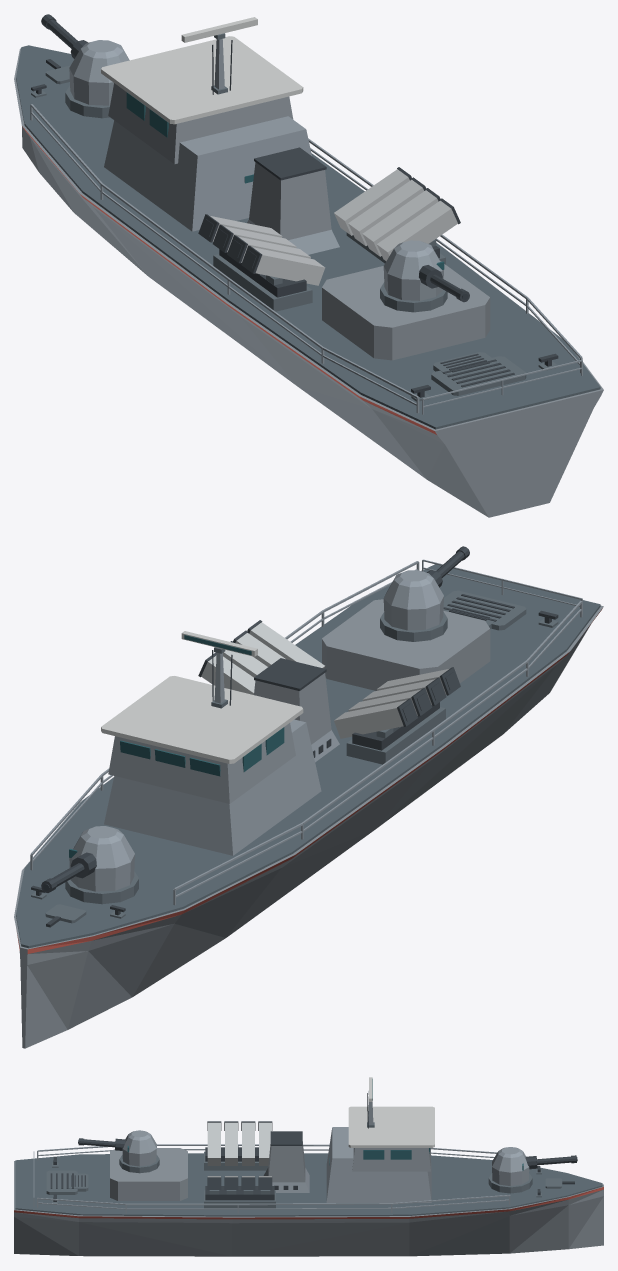
The model's file is PatrolBoat_CoastalBoss.fbx.
3 views of the same model, one above another, from view 1: azimuth 30°, elevation 25°; view 2: azimuth 150°, elevation 25°; view 3: azimuth 270°, elevation 25° (orthographic). The views are drawn at different scales.
Parts seen in each view (by area): view 1: PatrolBoat_CoastalBoss_Visual, AftGun_TurretPivot_Visual, BowGun_TurretPivot_Visual, AftGun_ElevationPivot_Visual, RadarPivot_Visual; view 2: PatrolBoat_CoastalBoss_Visual, BowGun_TurretPivot_Visual, AftGun_TurretPivot_Visual, BowGun_ElevationPivot_Visual, RadarPivot_Visual; view 3: PatrolBoat_CoastalBoss_Visual, BowGun_TurretPivot_Visual, AftGun_TurretPivot_Visual, BowGun_ElevationPivot_Visual, AftGun_ElevationPivot_Visual.
Boxes of the visible parts, x1,y1,x2,y2 form: PatrolBoat_CoastalBoss_Visual: (14,33,603,517); AftGun_TurretPivot_Visual: (383,240,444,300); BowGun_TurretPivot_Visual: (69,40,129,105); AftGun_ElevationPivot_Visual: (419,265,469,302); RadarPivot_Visual: (181,17,257,42); PatrolBoat_CoastalBoss_Visual: (14,559,603,1048); BowGun_TurretPivot_Visual: (69,826,134,891); AftGun_TurretPivot_Visual: (383,570,443,630); BowGun_ElevationPivot_Visual: (41,852,96,892); RadarPivot_Visual: (181,631,257,656); PatrolBoat_CoastalBoss_Visual: (14,1091,603,1256); BowGun_TurretPivot_Visual: (492,1147,529,1186); AftGun_TurretPivot_Visual: (122,1130,156,1166); BowGun_ElevationPivot_Visual: (525,1155,577,1169); AftGun_ElevationPivot_Visual: (78,1138,125,1150).
Size of the model in its own units: 435 by 499 by 1700.
